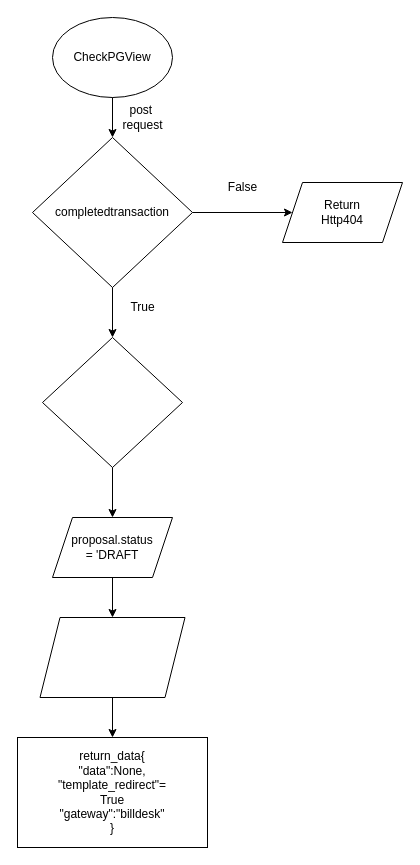
The diagram is 420 pixels wide and 865 high, and some of its shapes have lost their labels. The shapes that lost their labels are listed below. From the top down, each one's box as (x1, y1, x2, y2) in pixels, then its label:
(42, 336, 182, 468): proposal.status == 'FAILED'
(39, 616, 185, 698): save the data of proposal in BaseProposalForm
